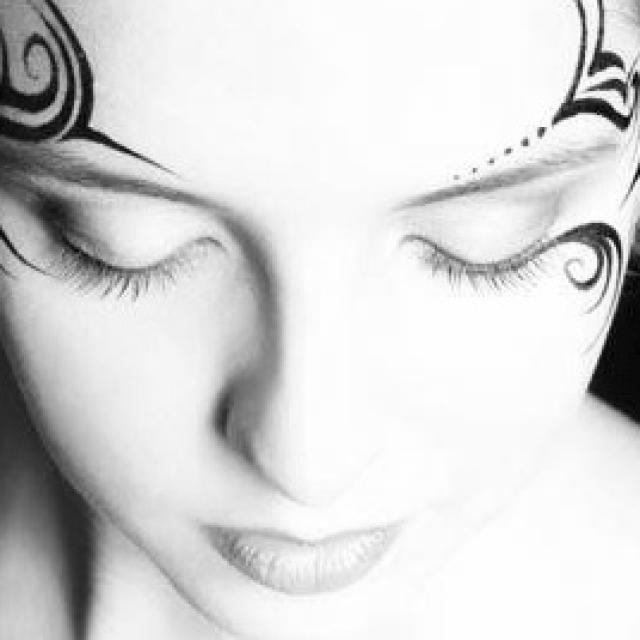real: (0, 0, 640, 640), (20, 168, 589, 317)
